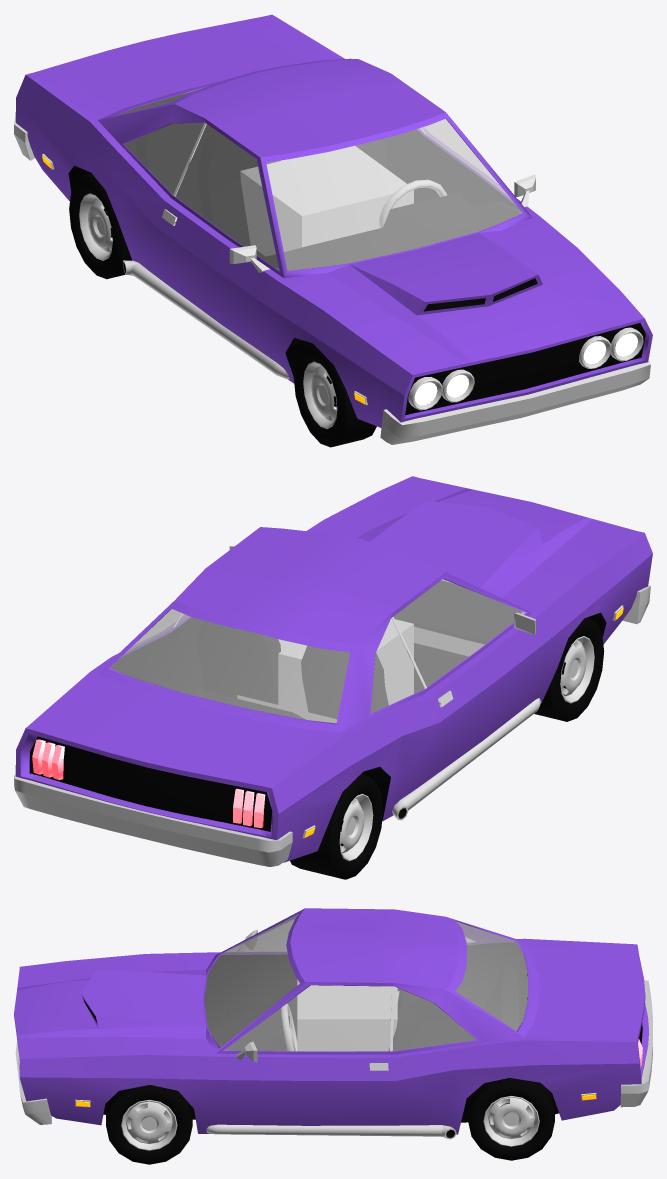
File: car_purple.glb
3 renders of one model, top to bottom at view 1: azimuth 30°, elevation 25°; view 2: azimuth 150°, elevation 25°; view 3: azimuth 270°, elevation 25°, orthographic. The views are drawn at different scales.
Parts seen in each view (by area): view 1: Cube_0, Cube, Cube.001_3, Cube.005_6; view 2: Cube_0, Cube.005_6, Cube, Cube.001_3; view 3: Cube_0, Cube, Cube.002_4, Cube.004_5.
Boxes of the visible parts, x1=… form: Cube_0: x1=14, y1=14, x2=652, y2=444; Cube: x1=240, y1=146, x2=413, y2=256; Cube.001_3: x1=293, y1=343, x2=376, y2=447; Cube.005_6: x1=69, y1=173, x2=132, y2=279; Cube_0: x1=14, y1=476, x2=652, y2=866; Cube.005_6: x1=290, y1=774, x2=383, y2=879; Cube: x1=237, y1=618, x2=413, y2=722; Cube.001_3: x1=534, y1=617, x2=604, y2=721; Cube_0: x1=14, y1=908, x2=652, y2=1139; Cube: x1=297, y1=980, x2=399, y2=1050; Cube.002_4: x1=468, y1=1078, x2=554, y2=1160; Cube.004_5: x1=106, y1=1085, x2=192, y2=1164.
Bounding box in the file's own units: 5.46 × 3.6 × 12.16.
